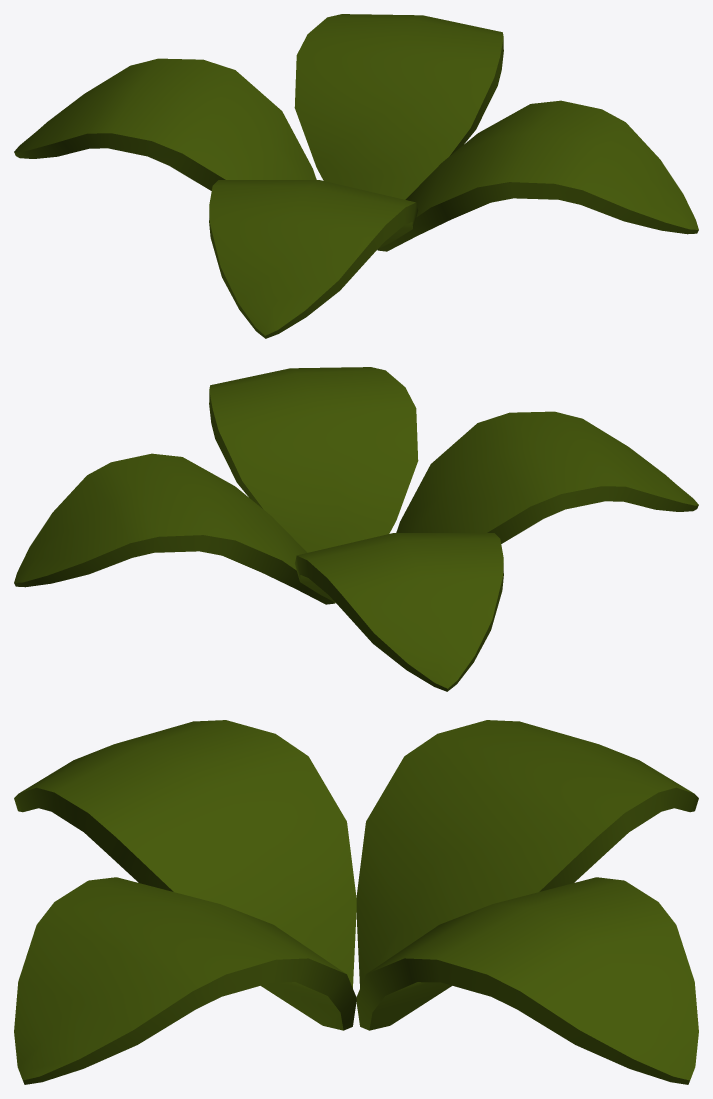
File: Plant_Small.obj
3 views of the same model, one above another, from view 1: azimuth 30°, elevation 25°; view 2: azimuth 150°, elevation 25°; view 3: azimuth 270°, elevation 25° (orthographic). The views are drawn at different scales.
Parts seen in each view (by area): view 1: Plant_Small_Cube.265; view 2: Plant_Small_Cube.265; view 3: Plant_Small_Cube.265.
Part boxes in pixels (left/top/right/bottom): Plant_Small_Cube.265: left=14, top=14, right=698, bottom=338; Plant_Small_Cube.265: left=14, top=367, right=698, bottom=691; Plant_Small_Cube.265: left=14, top=720, right=698, bottom=1084.
Size of the model in its own units: 1.03 by 0.2867 by 1.03.
